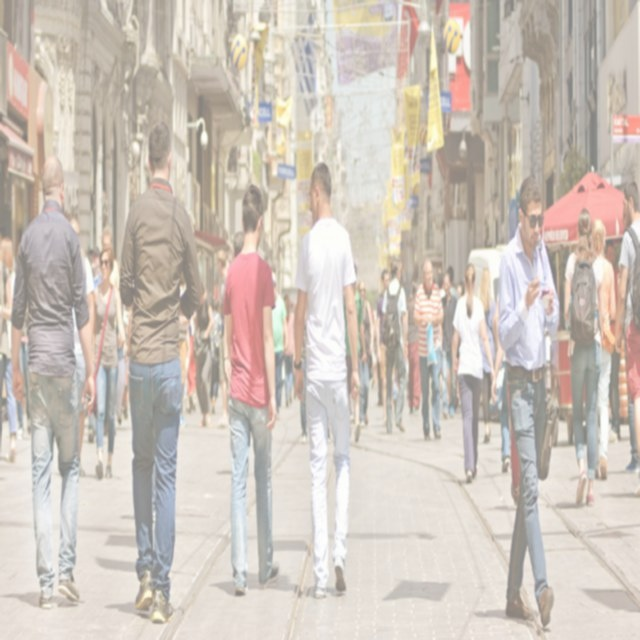pessoa: (116, 120, 202, 628), (10, 152, 96, 616), (496, 173, 566, 630), (291, 159, 363, 602), (221, 183, 281, 598), (563, 208, 606, 510), (450, 262, 496, 482), (612, 177, 640, 498), (92, 242, 126, 480), (68, 215, 96, 482), (590, 216, 616, 479), (616, 202, 640, 478), (4, 240, 32, 458), (412, 257, 444, 445), (380, 257, 410, 439), (342, 262, 367, 444), (604, 238, 624, 444), (111, 251, 132, 446), (174, 262, 198, 425), (477, 266, 496, 444), (192, 278, 214, 430), (491, 338, 514, 474), (270, 270, 290, 418), (356, 276, 373, 426), (441, 272, 458, 421), (388, 337, 414, 429), (365, 292, 385, 408), (100, 225, 122, 330), (210, 288, 228, 416), (376, 268, 390, 425), (406, 282, 422, 418), (0, 236, 17, 352), (446, 264, 459, 408), (452, 277, 466, 409), (281, 292, 296, 410), (298, 303, 310, 447), (208, 296, 222, 416), (437, 332, 452, 412), (290, 296, 300, 406), (88, 244, 103, 290), (232, 230, 245, 257), (438, 270, 447, 300)
